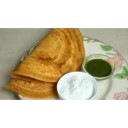dosa: (6, 29, 81, 94)
